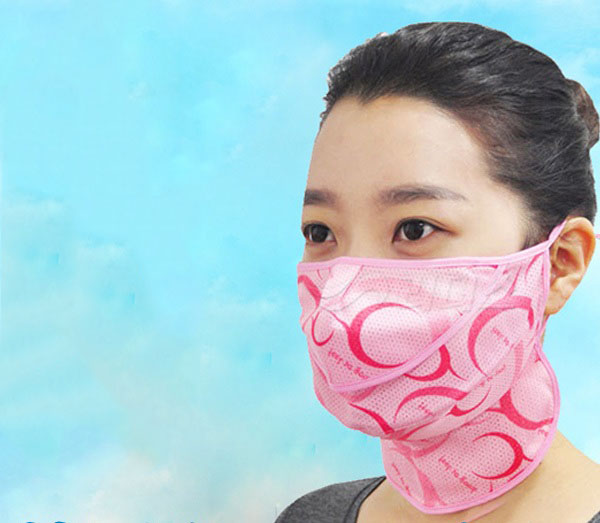face_mask: (296, 117, 527, 441)
